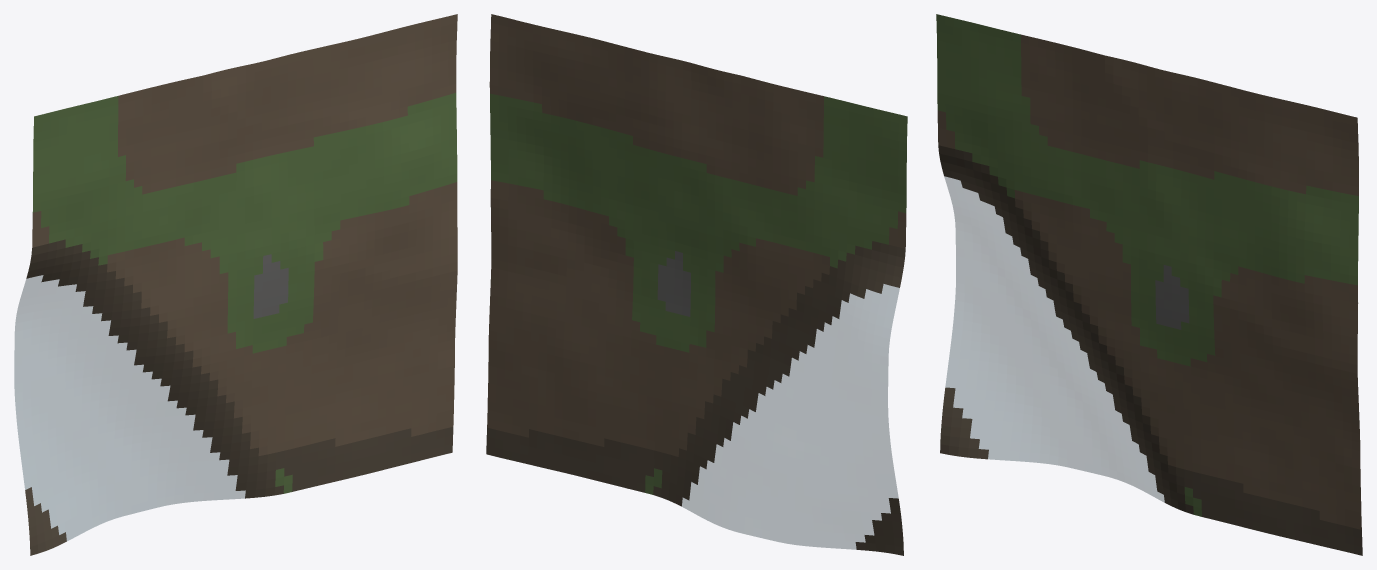
The model's file is SARM_SAR_Terrain_00_03.glb.
The picture shows the model from 3 angles, left to right: view 1: azimuth 30°, elevation 25°; view 2: azimuth 150°, elevation 25°; view 3: azimuth 330°, elevation 25°; orthographic projection.
Visible parts, largest first — view 1: SAR_Terrain_00_03.001; view 2: SAR_Terrain_00_03.001; view 3: SAR_Terrain_00_03.001.
Boxes of the visible parts, left/top/right/bottom form: SAR_Terrain_00_03.001: left=14, top=14, right=457, bottom=555; SAR_Terrain_00_03.001: left=486, top=14, right=907, bottom=555; SAR_Terrain_00_03.001: left=936, top=14, right=1362, bottom=555.
Bounding box in the file's own units: 50 × 50 × 5.15.
